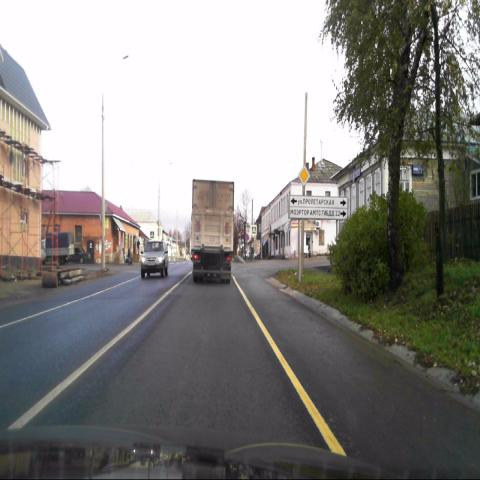2_1: (299, 165, 310, 187)
